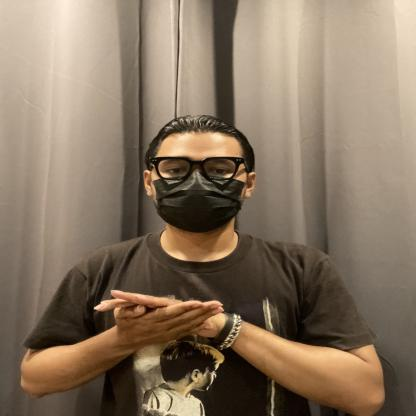Love: (46, 251, 327, 373)
